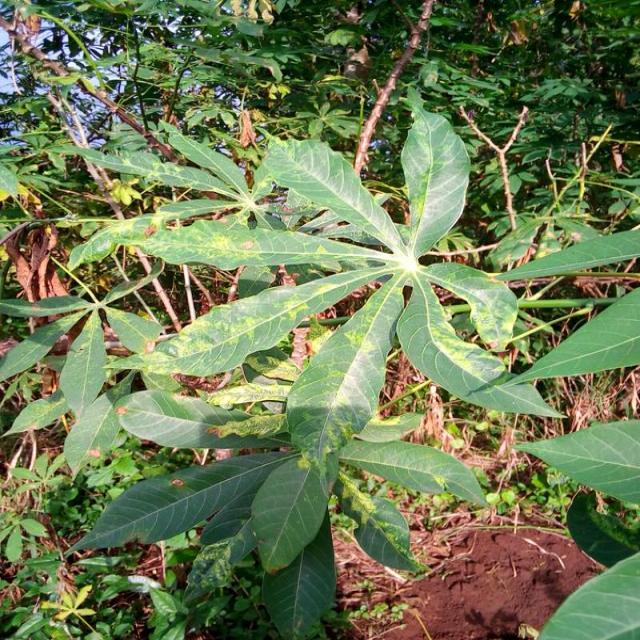cassava leaf: (60, 99, 567, 636)
